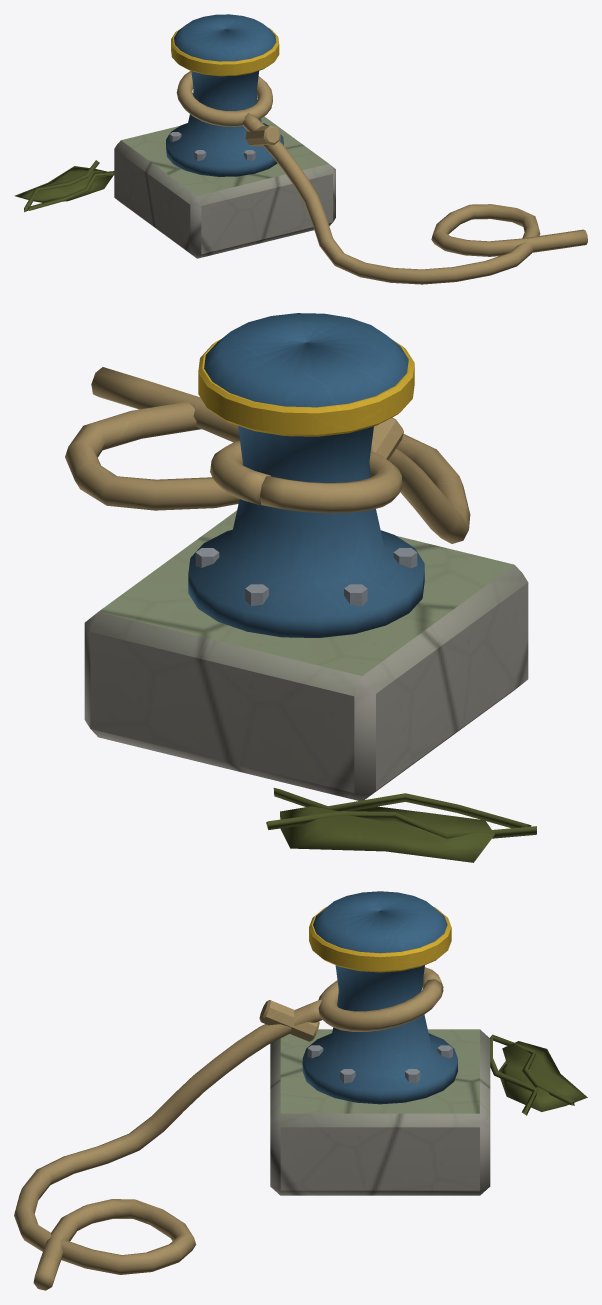
File: mooring_post.glb
The picture shows the model from 3 angles, top to bottom: view 1: azimuth 30°, elevation 25°; view 2: azimuth 150°, elevation 25°; view 3: azimuth 270°, elevation 25°; orthographic projection. The views are drawn at different scales.
Parts seen in each view (by area): view 1: mooring_post; view 2: mooring_post; view 3: mooring_post.
Part boxes in pixels (<box>): mooring_post: <box>14,14,587,284</box>; mooring_post: <box>65,313,536,862</box>; mooring_post: <box>14,891,587,1290</box>.
Size of the model in its own units: 2.28 by 1.04 by 2.22.
6 materials, 6 textured.
